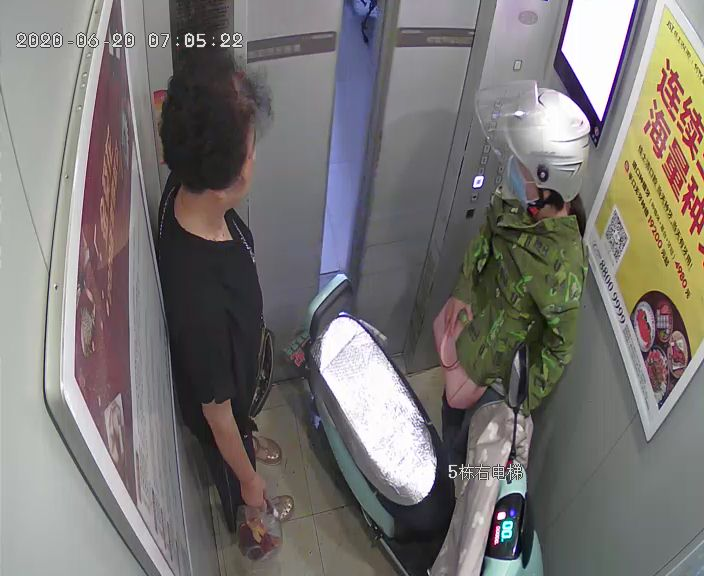Electric-bicycle: (291, 273, 545, 575)
